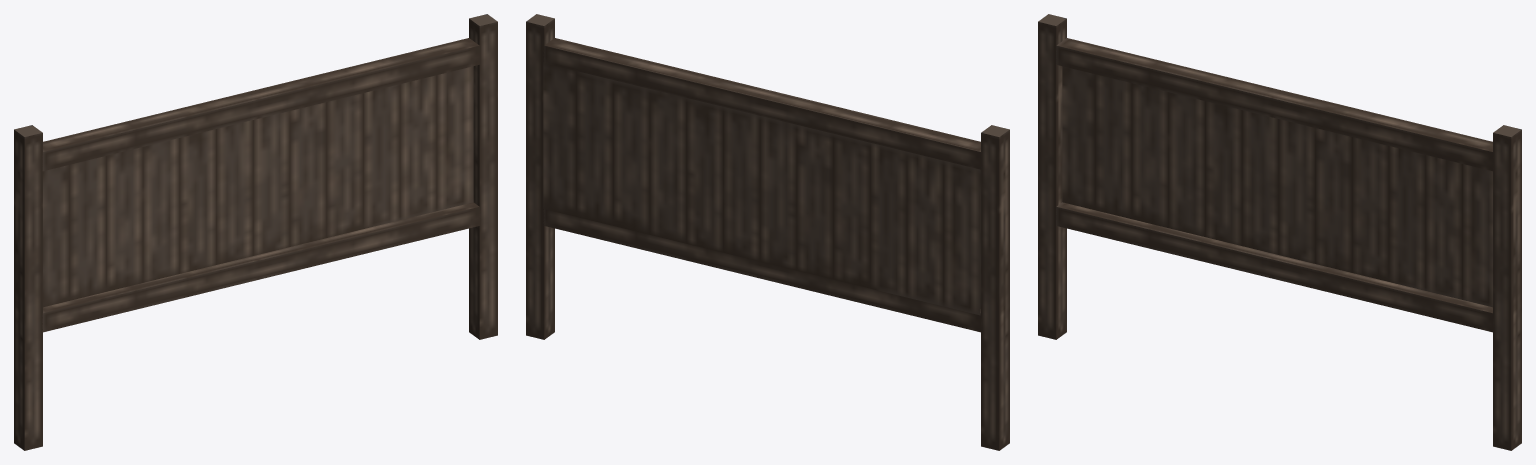
File: questBoard.fbx
The picture shows the model from 3 angles, left to right: view 1: azimuth 30°, elevation 25°; view 2: azimuth 150°, elevation 25°; view 3: azimuth 330°, elevation 25°; orthographic projection.
Visible parts, largest first — view 1: pCube23; view 2: pCube23; view 3: pCube23.
Boxes of the visible parts, <box> form: pCube23: <box>14,14,497,450</box>; pCube23: <box>526,14,1009,450</box>; pCube23: <box>1038,14,1521,450</box>.
Bounding box in the file's own units: 1011 × 640 × 40.82.
